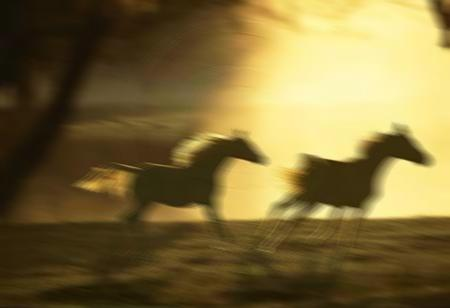horse: (74, 127, 266, 257), (253, 121, 431, 255)
